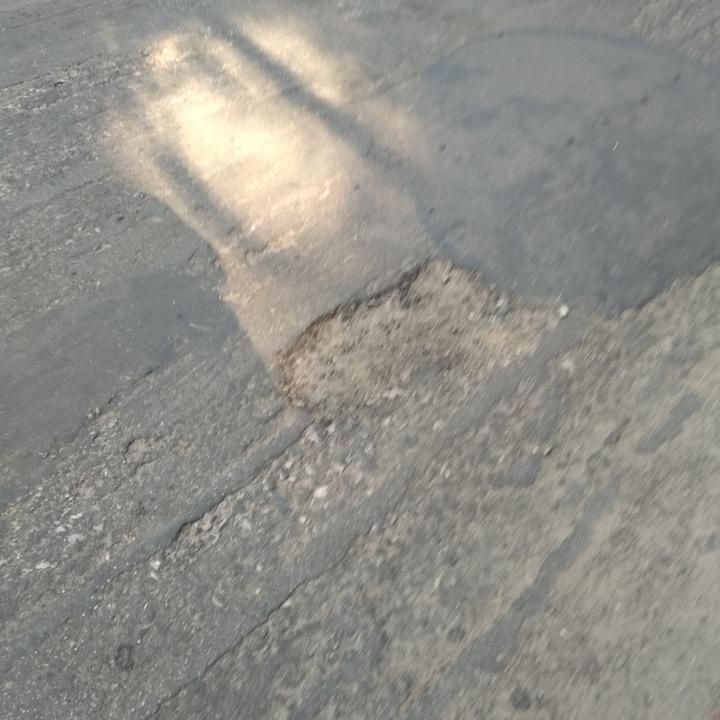pothole: (280, 251, 567, 420)
